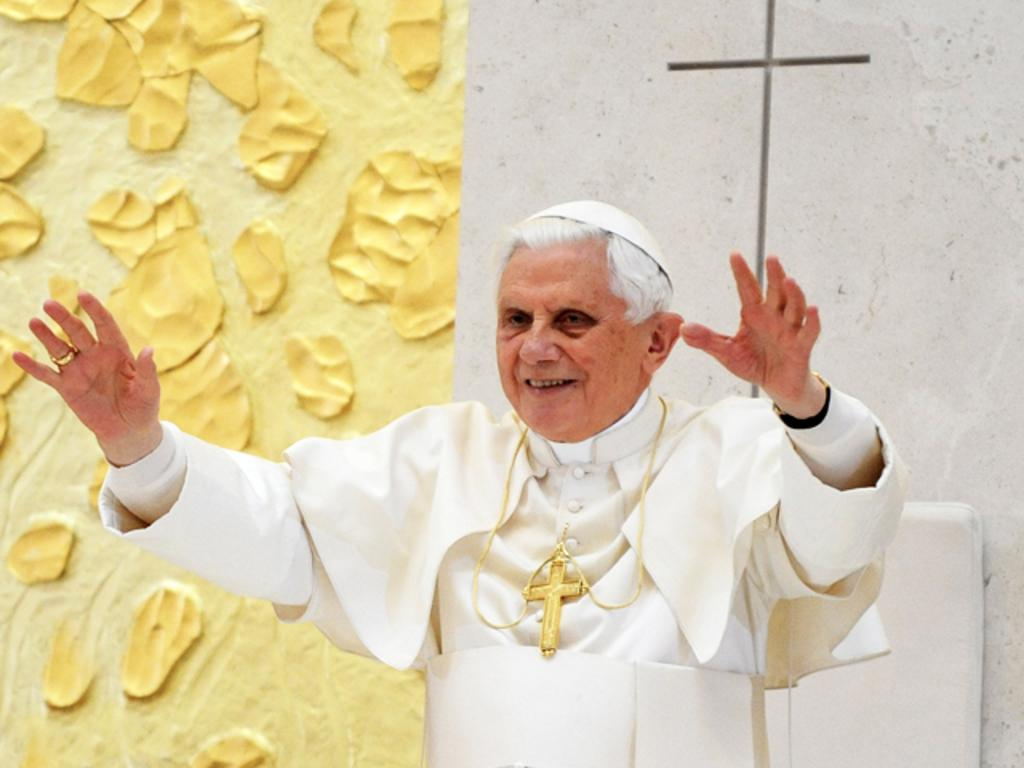face: (498, 246, 640, 438)
